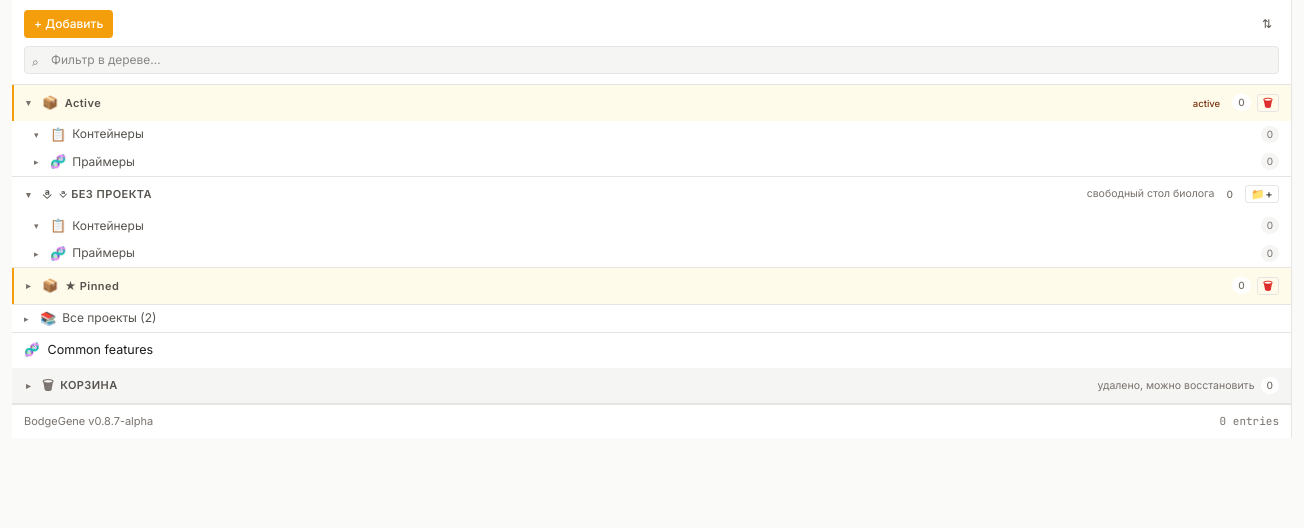
M-X.8 K4 — LibraryTreeRoot project grouping › pinned projects + current (not pinned) shown top-level; others under «Все проекты (N)»
This screenshot has width=1304, height=528.
Expected: the element with test id "library-zone-project-pb" is shown, x1=12 y1=268 x2=1291 y2=304
Expected: the element with test id "library-zone-project-pa" is shown, x1=12 y1=85 x2=1291 y2=176
Click the button with test id "tree-all-projects-group". click: {"x": 90, "y": 318}
box: x1=24 y1=310 x2=156 y2=326
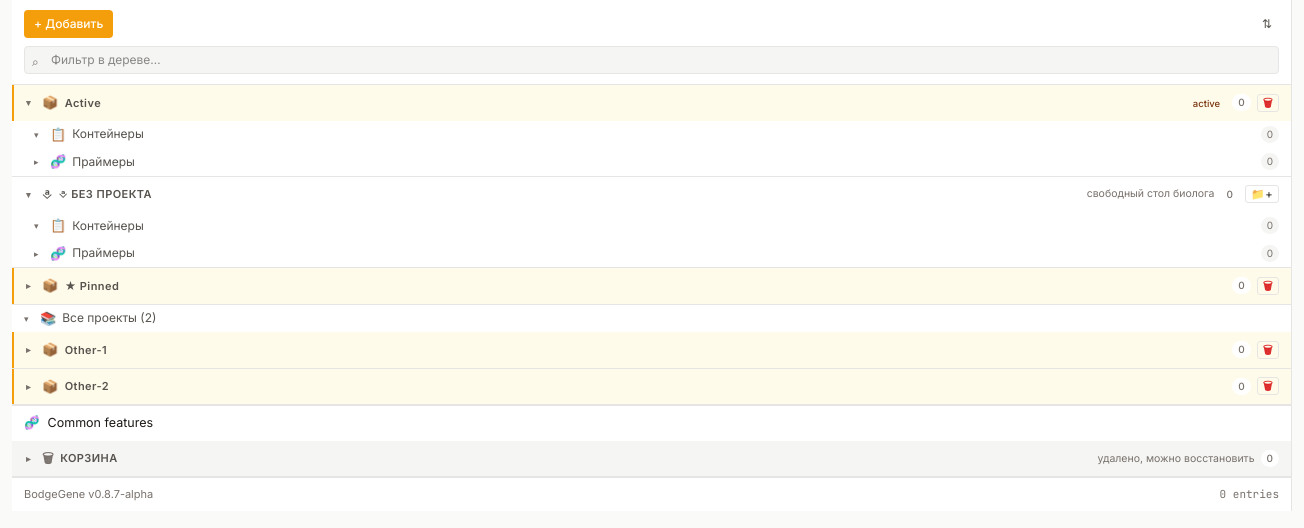
Expected: the element with test id "library-zone-project-pc" is shown, x1=12 y1=332 x2=1291 y2=368
Expected: the element with test id "library-zone-project-pd" is shown, x1=12 y1=368 x2=1291 y2=405
